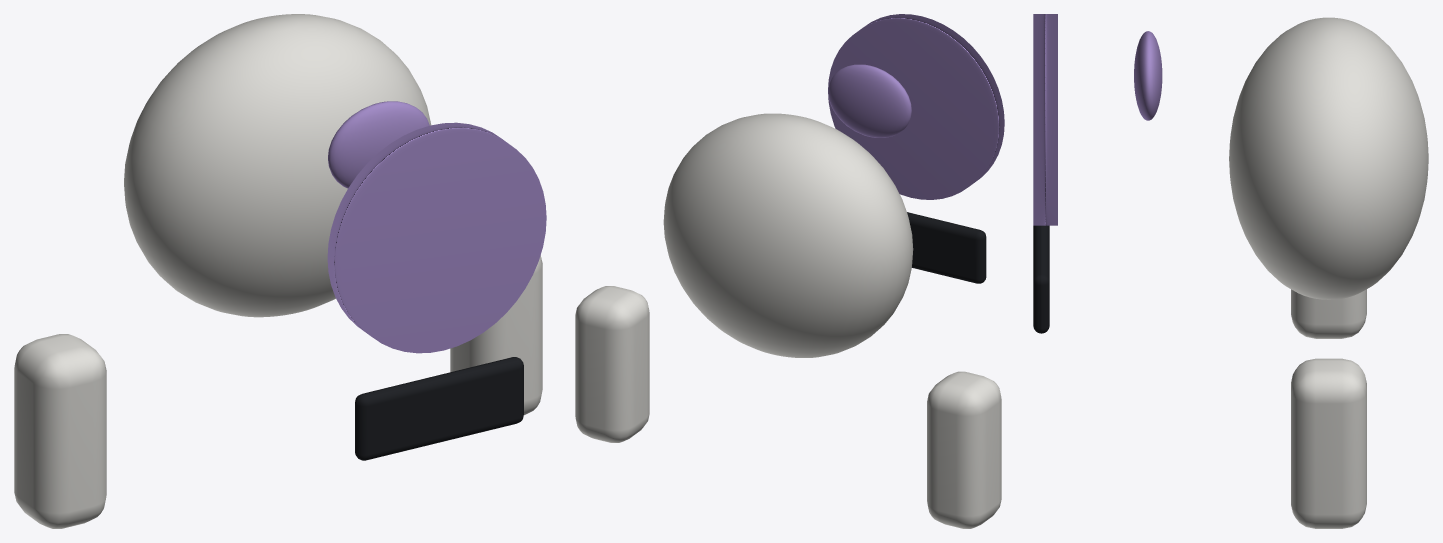
The model's file is p2s_video_so_ong_sml_spacecraft.proxy.glb.
The picture shows the model from 3 angles, left to right: view 1: azimuth 30°, elevation 25°; view 2: azimuth 150°, elevation 25°; view 3: azimuth 270°, elevation 25°; orthographic projection. The views are drawn at different scales.
Visible parts, largest first — view 1: repair_sml_white_capsule, repair_spacecraft_window, repair_sml_side_leg, repair_spacecraft_mouth, repair_sml_side_leg.001, repair_sml_purple_lens; view 2: repair_sml_white_capsule, repair_spacecraft_window, repair_sml_side_leg, repair_sml_side_leg.001, repair_sml_purple_lens, repair_spacecraft_mouth; view 3: repair_sml_white_capsule, repair_sml_side_leg.001, repair_spacecraft_window, repair_sml_side_leg, repair_sml_purple_lens, repair_spacecraft_mouth.
Boxes of the visible parts, x1,y1,x2,y2 form: repair_sml_white_capsule: (124, 14, 431, 317); repair_spacecraft_window: (327, 122, 546, 353); repair_sml_side_leg: (14, 334, 106, 528); repair_spacecraft_mouth: (355, 357, 523, 460); repair_sml_side_leg.001: (450, 255, 542, 415); repair_sml_purple_lens: (328, 101, 429, 188); repair_sml_white_capsule: (663, 113, 913, 357); repair_spacecraft_window: (828, 14, 1004, 199); repair_sml_side_leg: (927, 371, 1001, 528); repair_sml_side_leg.001: (575, 286, 649, 442); repair_sml_purple_lens: (828, 64, 911, 137); repair_spacecraft_mouth: (907, 212, 986, 283); repair_sml_white_capsule: (1229, 17, 1428, 299); repair_sml_side_leg.001: (1291, 358, 1366, 528); repair_spacecraft_window: (1033, 14, 1057, 225); repair_sml_side_leg: (1291, 289, 1366, 338); repair_sml_purple_lens: (1134, 31, 1162, 120); repair_spacecraft_mouth: (1033, 225, 1049, 333).
Size of the model in its own units: 0.1264 by 0.1075 by 0.0957.
